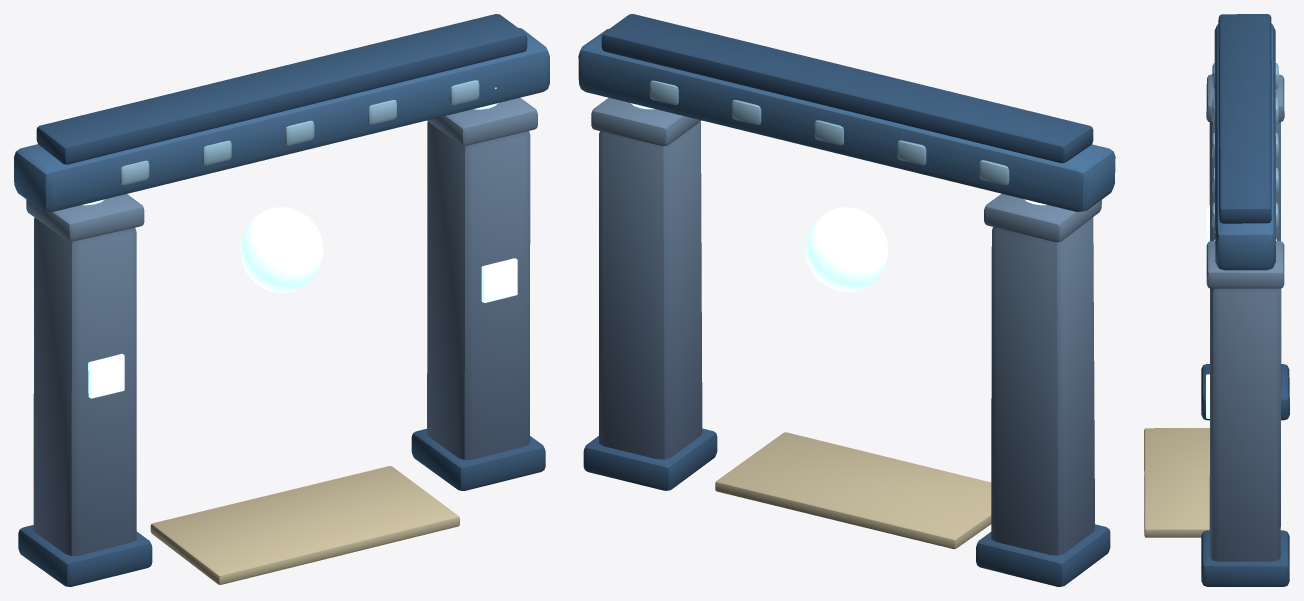
3 views of the same model, side by side, from view 1: azimuth 30°, elevation 25°; view 2: azimuth 150°, elevation 25°; view 3: azimuth 270°, elevation 25° (orthographic). The views are drawn at different scales.
Parts seen in each view (by area): view 1: gate_5d601d23; view 2: gate_5d601d23; view 3: gate_5d601d23.
Part boxes in pixels (x1,y1,x2,y2): gate_5d601d23: [14, 14, 549, 586]; gate_5d601d23: [578, 14, 1115, 586]; gate_5d601d23: [1144, 14, 1289, 586].
Size of the model in its own units: 5.07 by 4.13 by 1.45.
